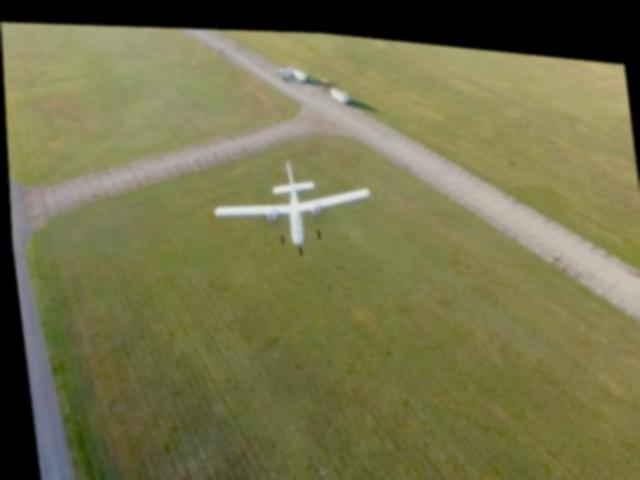uav: (205, 141, 377, 254)
